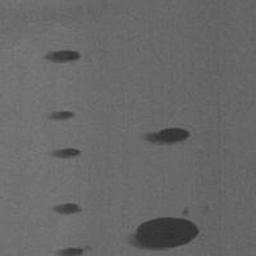Oil spot: (131, 217, 199, 250), (147, 128, 190, 144), (48, 51, 80, 62), (57, 204, 79, 213), (57, 149, 80, 157), (62, 248, 83, 256), (53, 112, 73, 119)
